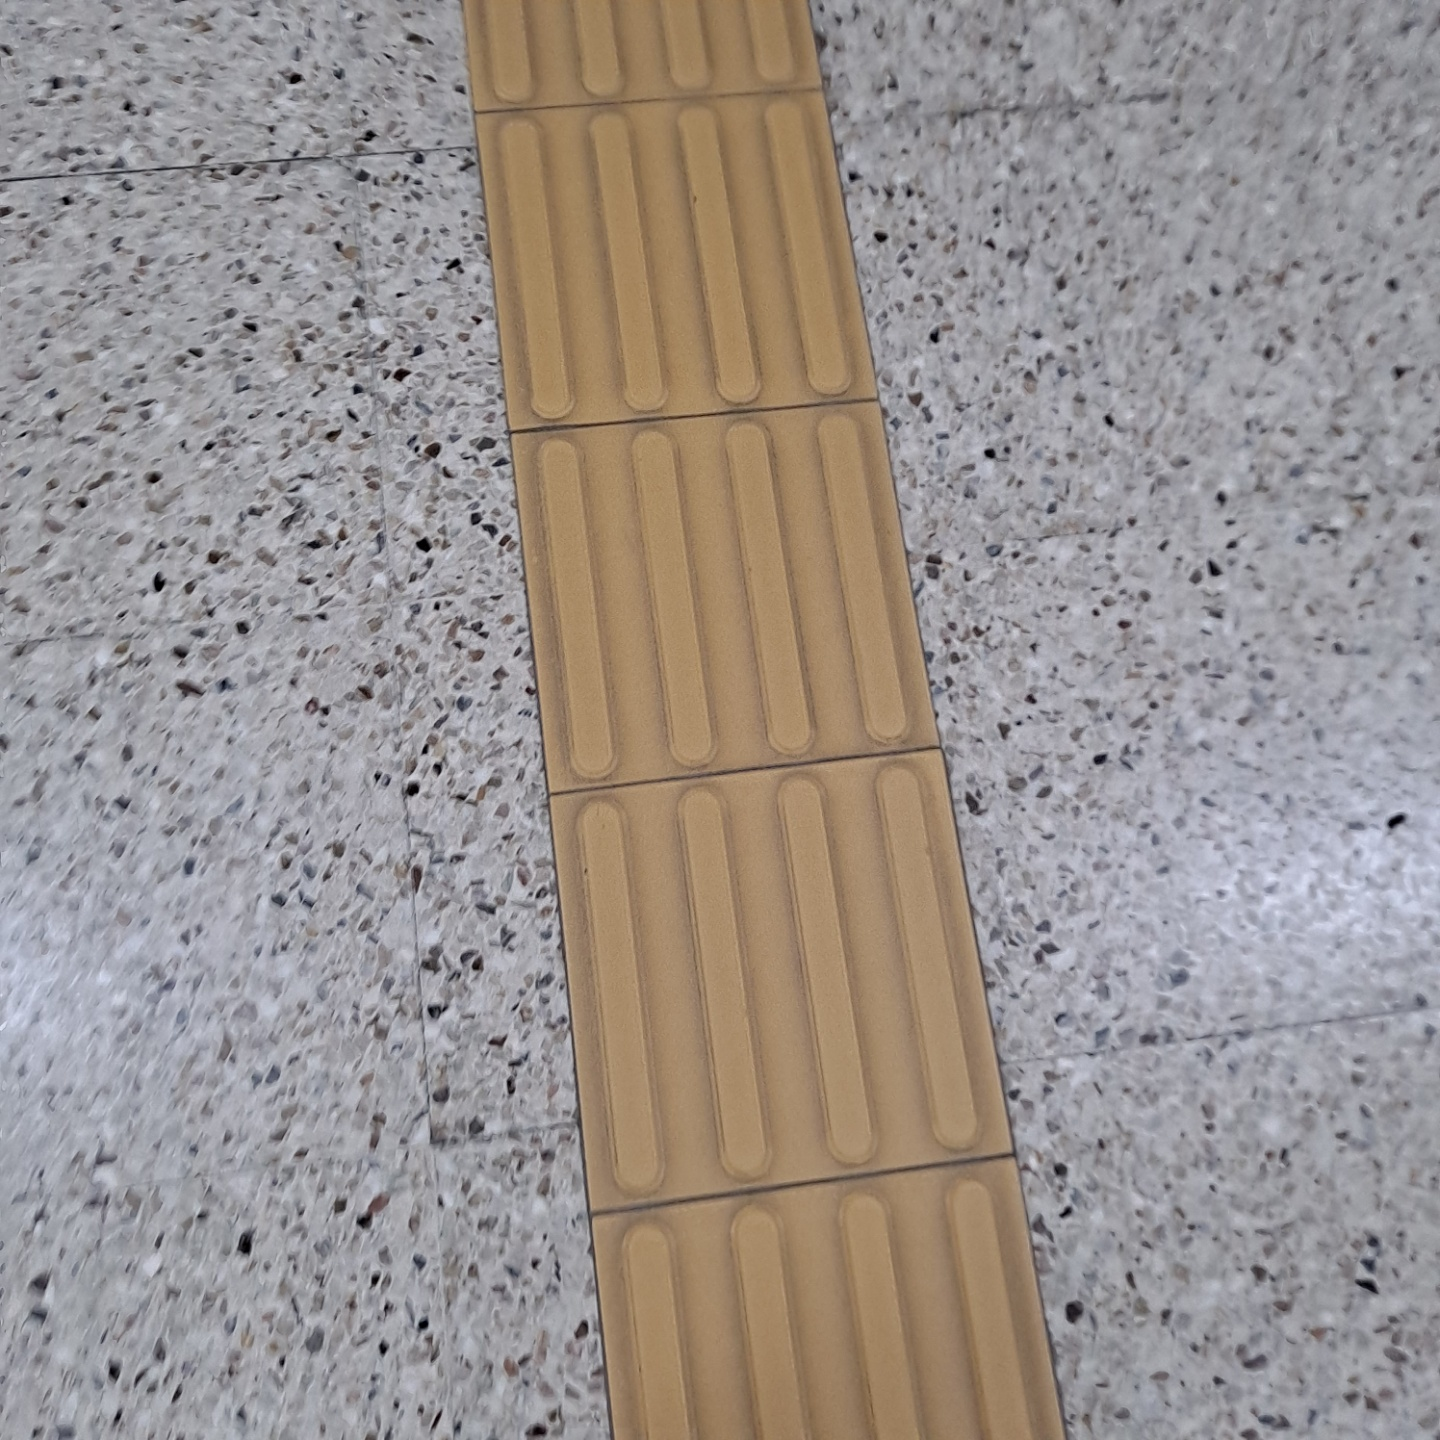guideBlock: (491, 744, 1035, 1160), (497, 433, 975, 764), (473, 102, 872, 448), (589, 1209, 1091, 1440), (460, 13, 858, 94)
